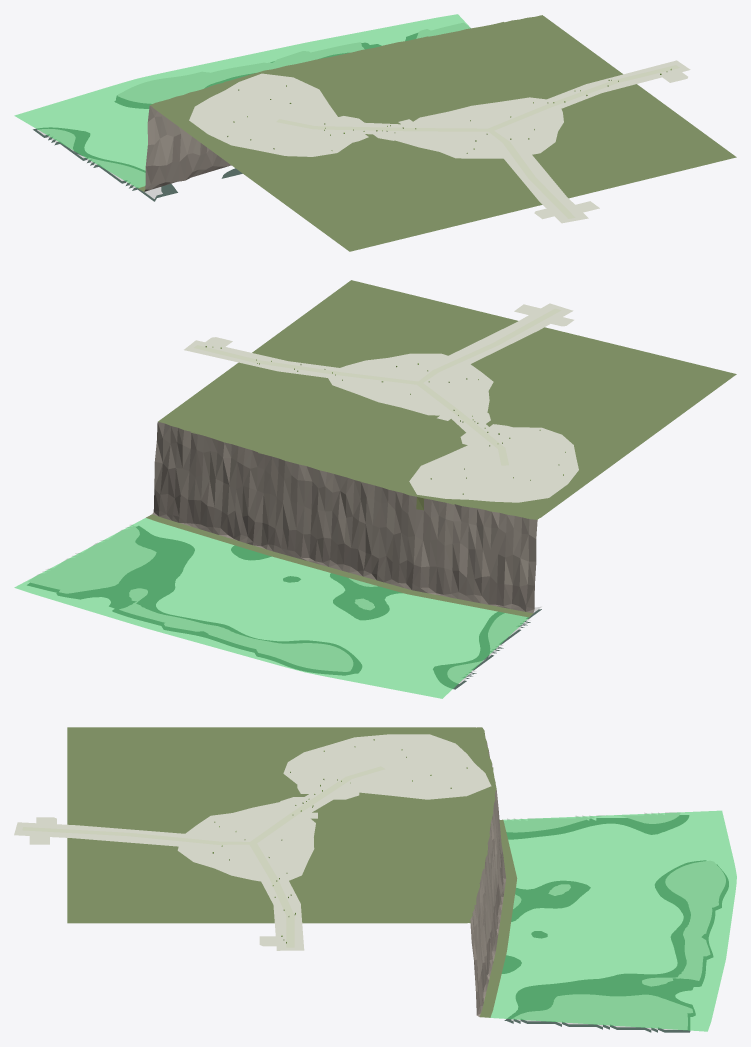
Rendered from lomas.glb.
The picture shows the model from 3 angles, top to bottom: view 1: azimuth 30°, elevation 25°; view 2: azimuth 150°, elevation 25°; view 3: azimuth 270°, elevation 25°; orthographic projection. The views are drawn at different scales.
Visible parts, largest first — view 1: AutoForest_Lomas, AutoForest_LomasBajo, LomasCimaMeadow, LomasClaroMeadow, LomasAcantiladoCanyon, AutoWater_LomasLago, LomasLagoFondo, LomasCaminoPath, LomasSubidaMeadow, LomasMiradorMeadow, LomasCamino1Path, LomasEnlaceMeadow (+1 smaller); view 2: AutoForest_Lomas, AutoForest_LomasBajo, LomasAcantiladoCanyon, AutoWater_LomasLago, LomasCimaMeadow, LomasLagoFondo, LomasClaroMeadow, LomasSubidaMeadow, LomasCaminoPath, LomasMiradorMeadow, LomasCamino1Path, LomasEnlaceMeadow (+1 smaller); view 3: AutoForest_Lomas, AutoForest_LomasBajo, LomasCimaMeadow, AutoWater_LomasLago, LomasLagoFondo, LomasAcantiladoCanyon, LomasClaroMeadow, LomasSubidaMeadow, LomasCaminoPath, LomasMiradorMeadow, LomasEnlaceMeadow, LomasCamino1Path (+1 smaller).
Boxes of the visible parts, x1,y1,x2,y2 form: AutoForest_Lomas: (153, 16, 736, 251); AutoForest_LomasBajo: (14, 14, 470, 187); LomasCimaMeadow: (189, 73, 351, 156); LomasClaroMeadow: (395, 97, 563, 158); LomasAcantiladoCanyon: (138, 15, 545, 191); AutoWater_LomasLago: (37, 23, 470, 198); LomasLagoFondo: (33, 33, 417, 201); LomasCaminoPath: (276, 119, 575, 218); LomasSubidaMeadow: (503, 154, 588, 223); LomasMiradorMeadow: (541, 60, 690, 108); LomasCamino1Path: (488, 65, 679, 130); LomasEnlaceMeadow: (339, 72, 687, 219); AutoForest_Lomas: (159, 280, 736, 517); AutoForest_LomasBajo: (14, 518, 528, 698); LomasAcantiladoCanyon: (146, 418, 540, 617); AutoWater_LomasLago: (28, 524, 541, 683); LomasCimaMeadow: (409, 427, 578, 502); LomasLagoFondo: (27, 526, 541, 689); LomasClaroMeadow: (325, 353, 493, 415); LomasSubidaMeadow: (447, 303, 573, 364); LomasCaminoPath: (416, 308, 561, 465); LomasMiradorMeadow: (184, 340, 338, 378); LomasCamino1Path: (194, 345, 419, 384); LomasEnlaceMeadow: (205, 304, 573, 444); AutoForest_Lomas: (67, 727, 493, 923); AutoForest_LomasBajo: (490, 810, 736, 1031); LomasCimaMeadow: (283, 734, 491, 799); AutoWater_LomasLago: (504, 812, 725, 1029); LomasLagoFondo: (502, 815, 728, 1032); LomasAcantiladoCanyon: (460, 727, 517, 1017); LomasClaroMeadow: (177, 802, 315, 884); LomasSubidaMeadow: (14, 822, 186, 846); LomasCaminoPath: (22, 766, 385, 844); LomasMiradorMeadow: (260, 877, 304, 950); LomasEnlaceMeadow: (29, 784, 359, 946); LomasCamino1Path: (249, 843, 294, 947).
Size of what is drawn, in the model's own units: 161 by 31.42 by 211.
